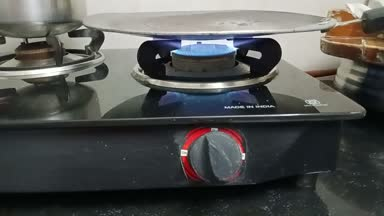flame_gas_on: (156, 36, 261, 190)
